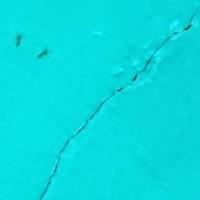crack: (35, 10, 199, 199)
